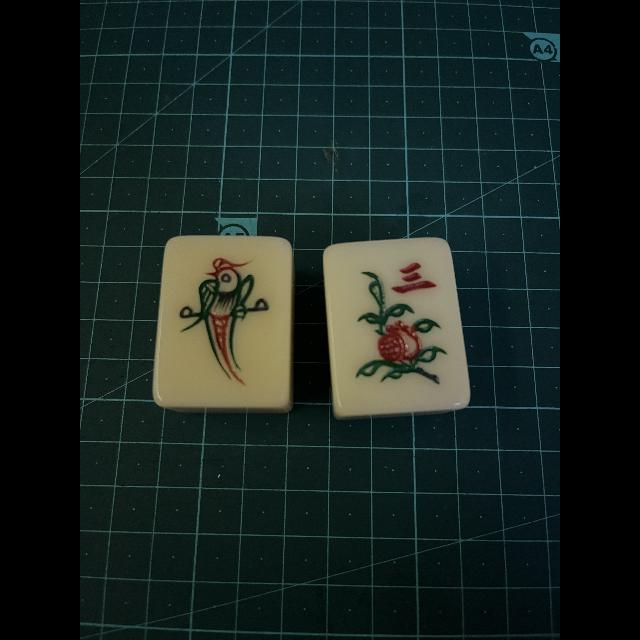b1: (162, 240, 286, 406)
s3-s: (329, 244, 457, 406)
